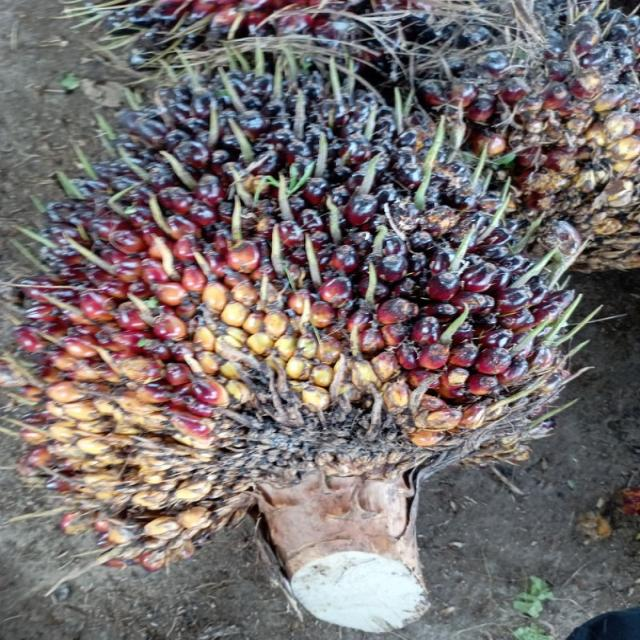fraksi 00: (5, 60, 582, 538)
